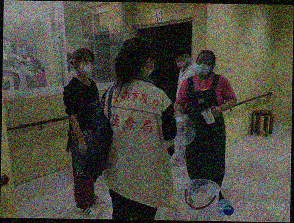mask_weared_incorrect: (174, 55, 188, 68)
with_mask: (75, 56, 96, 75), (196, 56, 213, 76), (143, 53, 155, 78), (29, 63, 38, 73), (3, 63, 13, 72), (11, 59, 21, 67)
